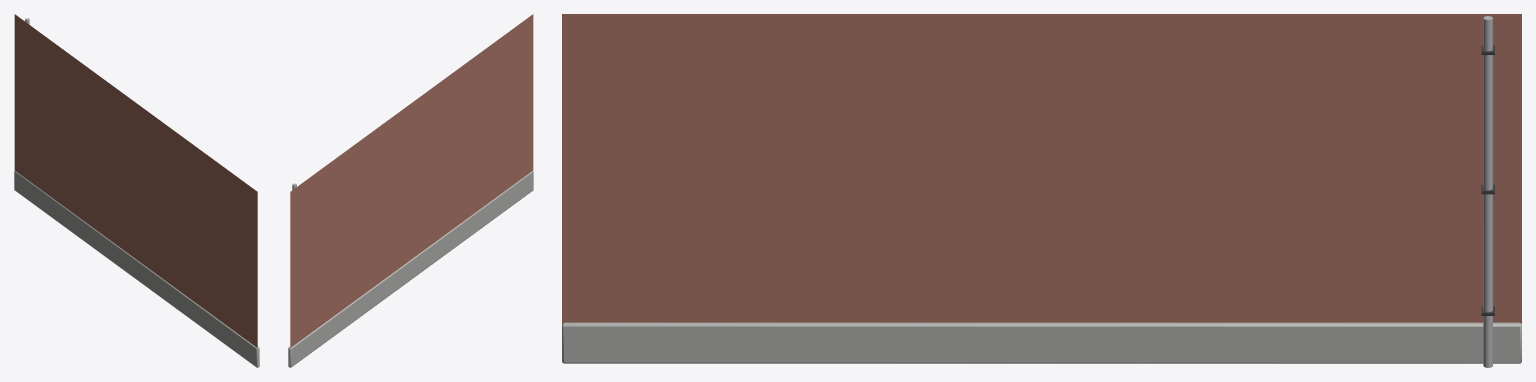
File: side_ground_10.glb
3 views of the same model, side by side, from view 1: azimuth 30°, elevation 25°; view 2: azimuth 150°, elevation 25°; view 3: azimuth 270°, elevation 25° (orthographic). The views are drawn at different scales.
Visible parts, largest first — view 1: side_ground_10; view 2: side_ground_10; view 3: side_ground_10.
Part boxes in pixels (x1,y1,x2,y2): side_ground_10: [14, 14, 259, 367]; side_ground_10: [288, 14, 533, 367]; side_ground_10: [562, 14, 1521, 367].
Size of the model in its own units: 0.18 by 4 by 10.
